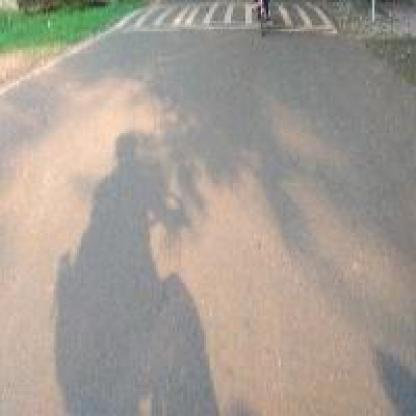Speed Bump: (106, 0, 252, 36)
